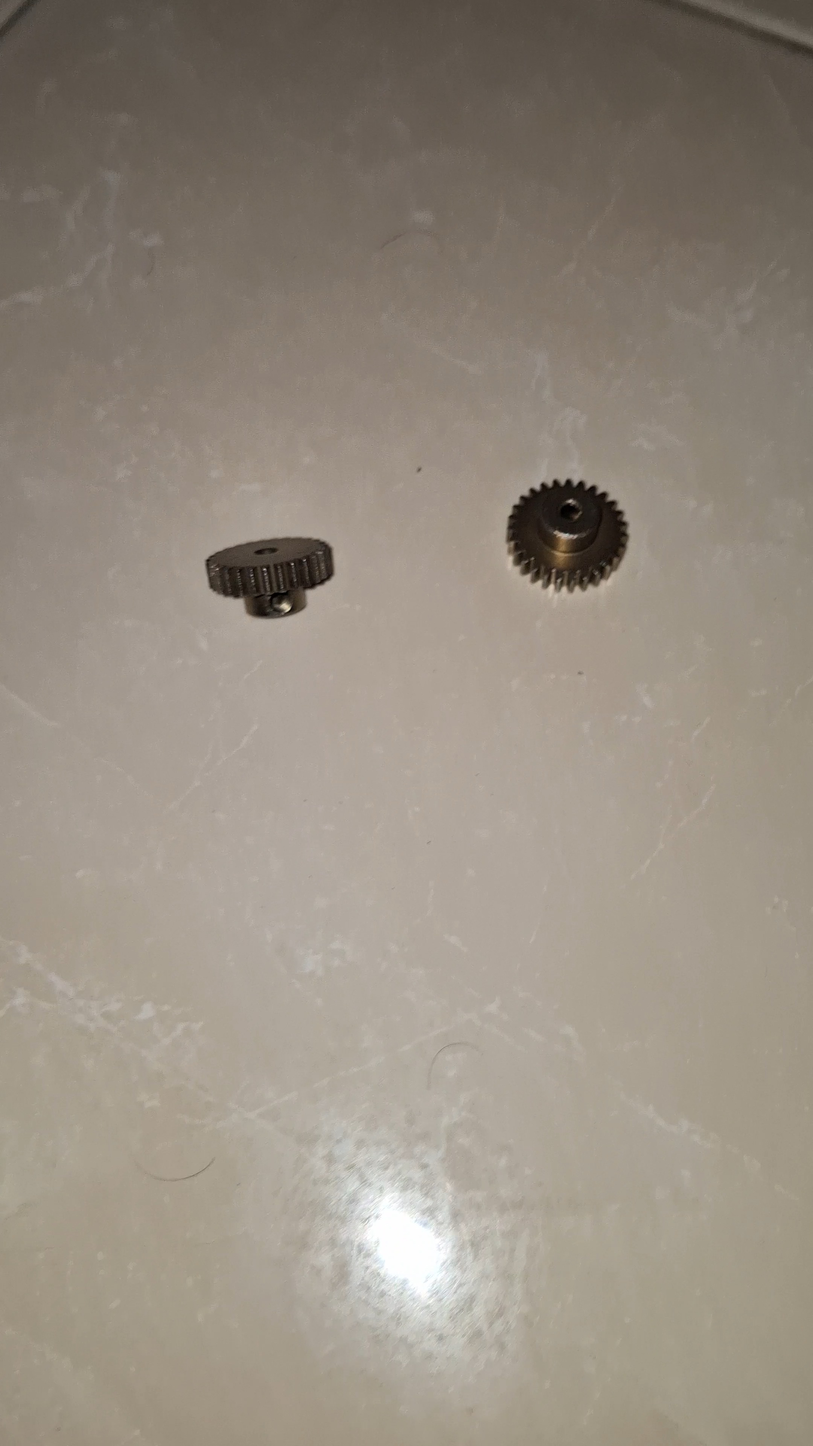spur gear: (507, 480, 628, 590), (206, 537, 333, 619)
